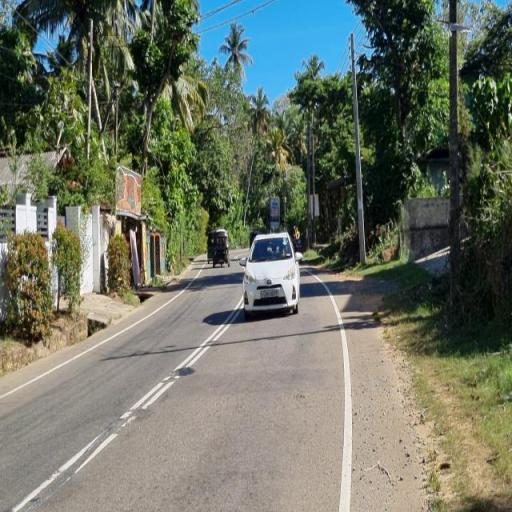double_white_line: (116, 298, 242, 426)
